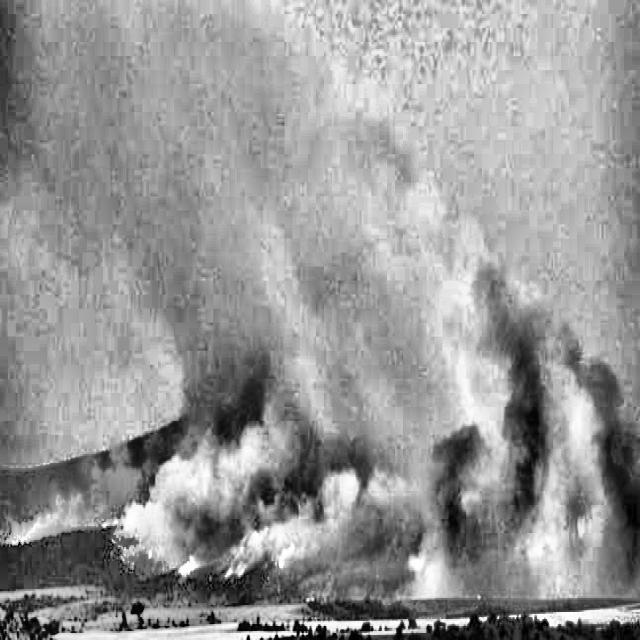fire: (96, 356, 629, 590)
